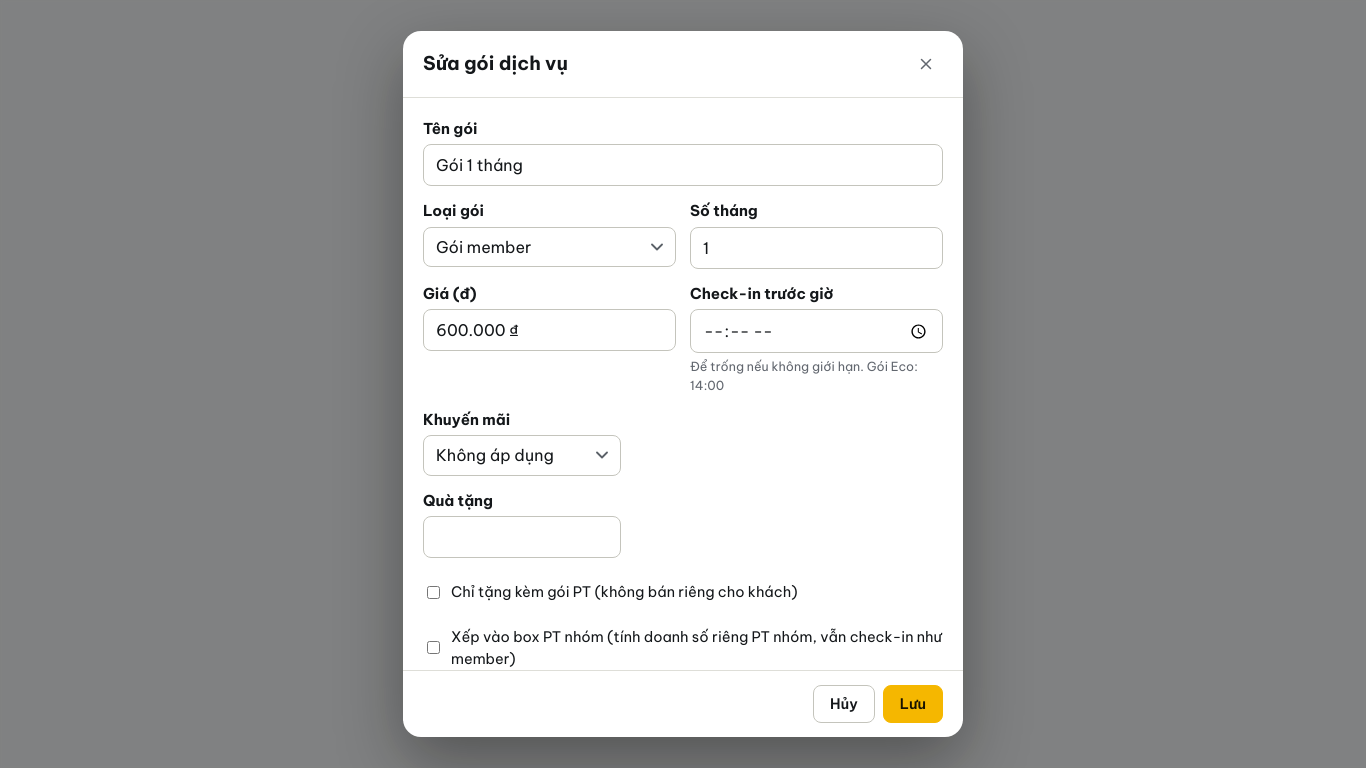
Packages page › maps PACKAGE_IN_USE to a clear message
Replace the text in the field labelled "Giá (đ)" with "1" at (550, 330), box left=423, top=309, right=676, bottom=351
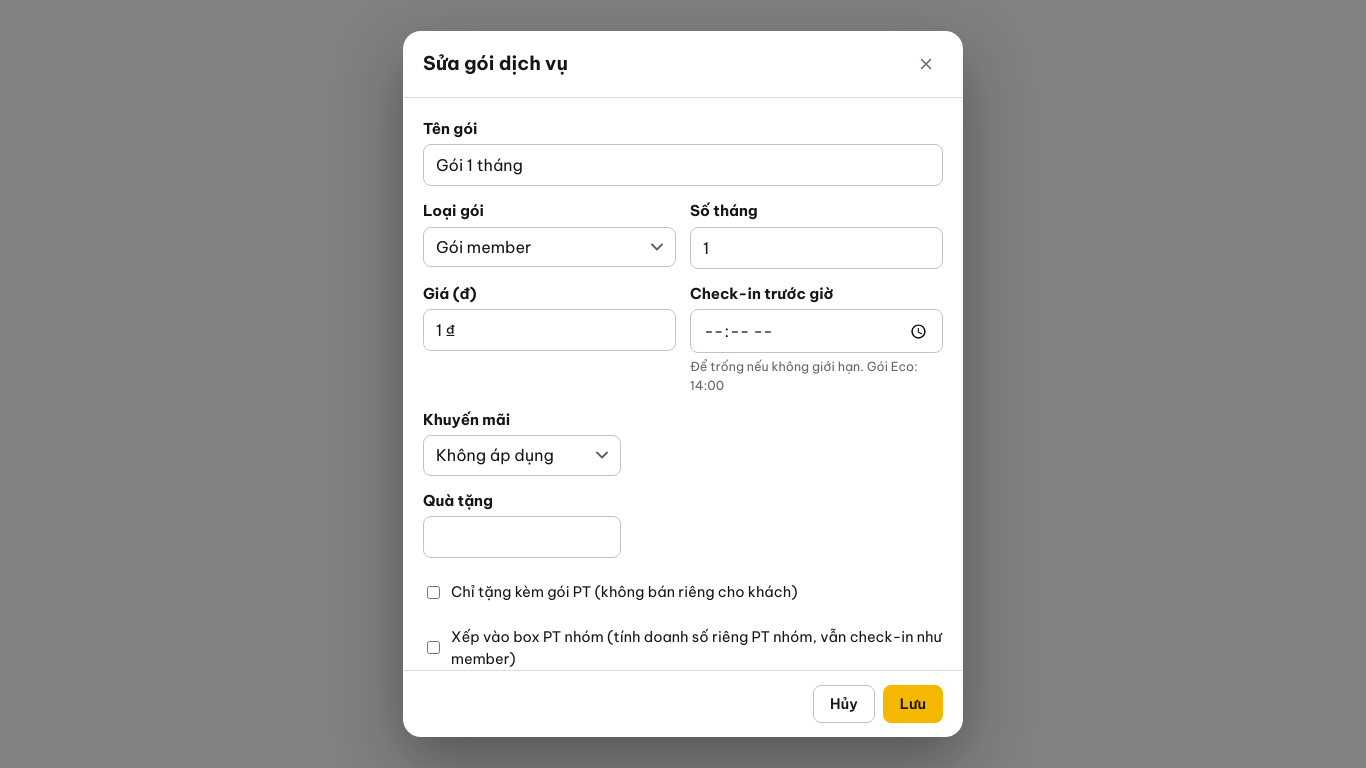
Click the button "Lưu" at (913, 704), box left=883, top=685, right=943, bottom=723
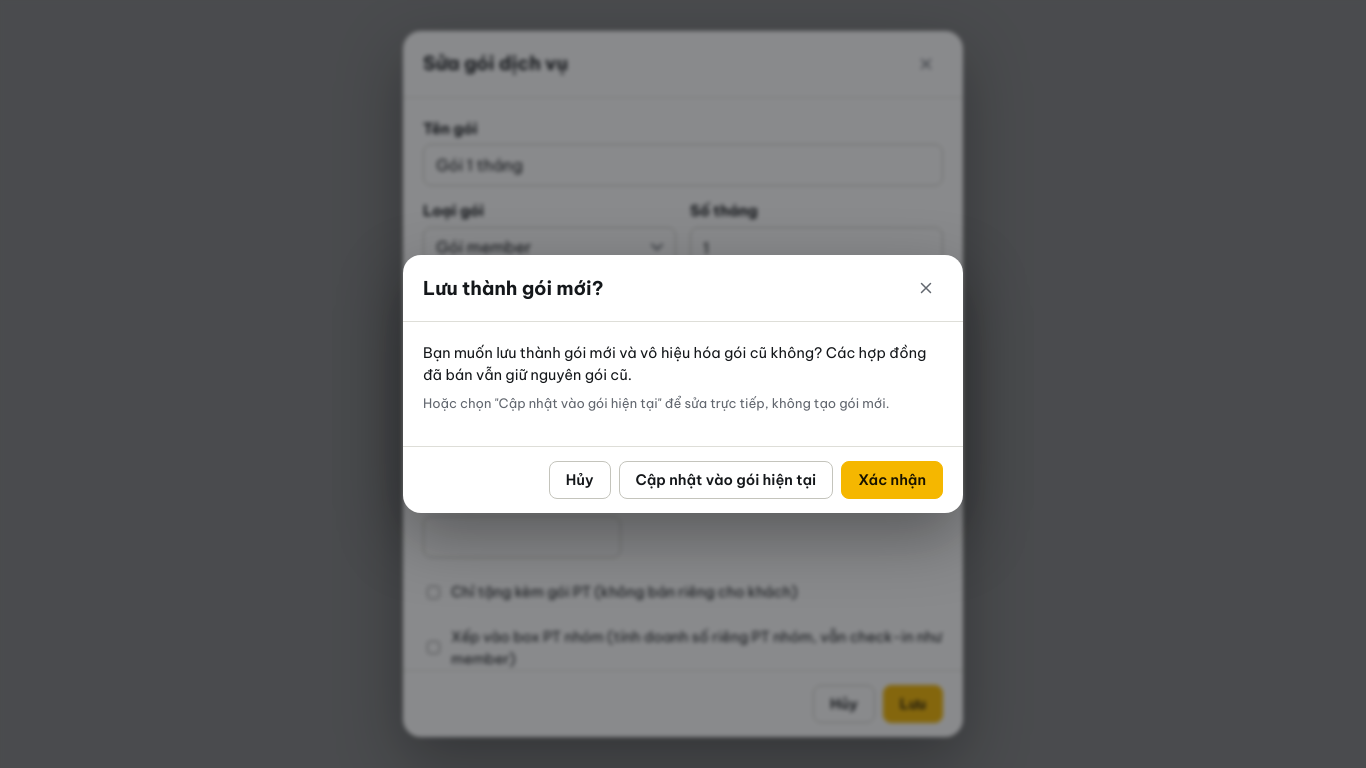
Click the button "Xác nhận" at (892, 480), box left=841, top=461, right=943, bottom=499
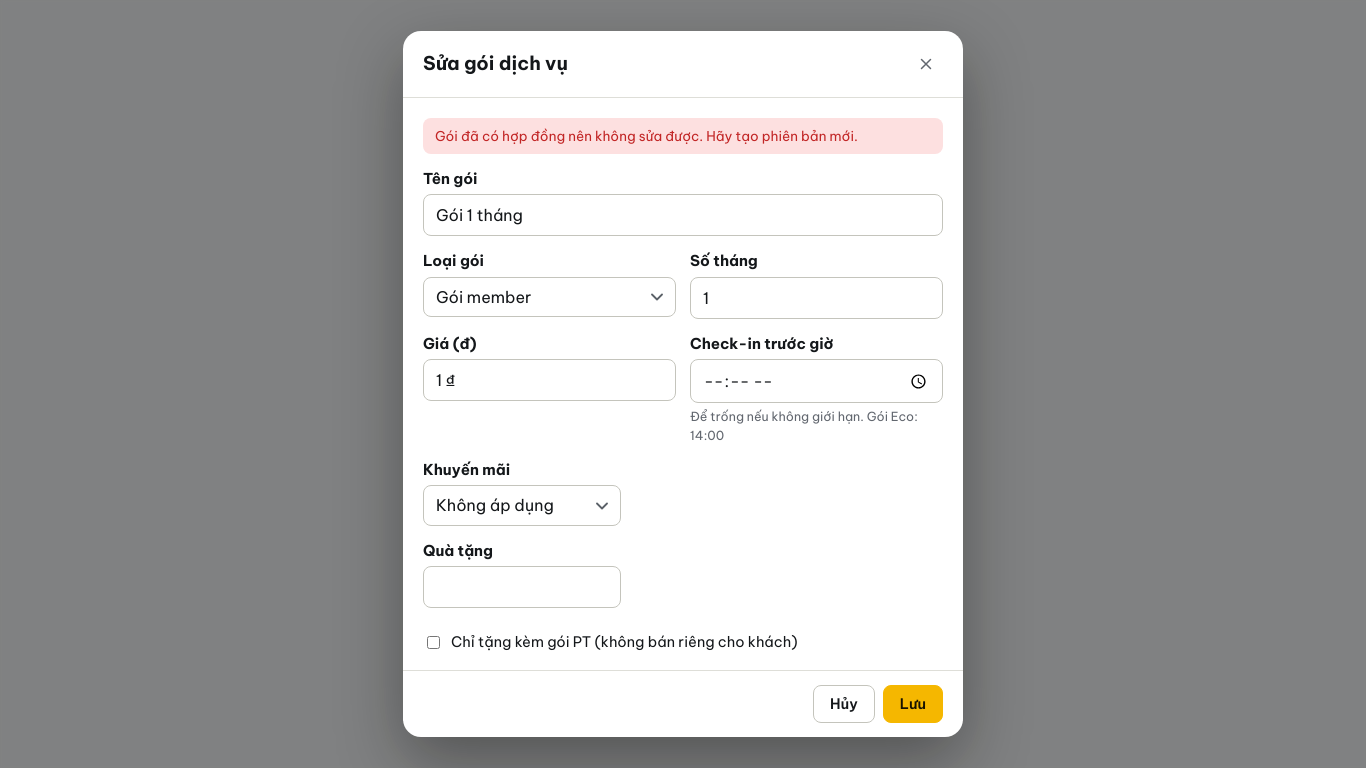
Expected: the text "Gói đã có hợp đồng nên không sửa được. Hãy tạo phiên bản mới." is shown, left=423, top=118, right=943, bottom=154
